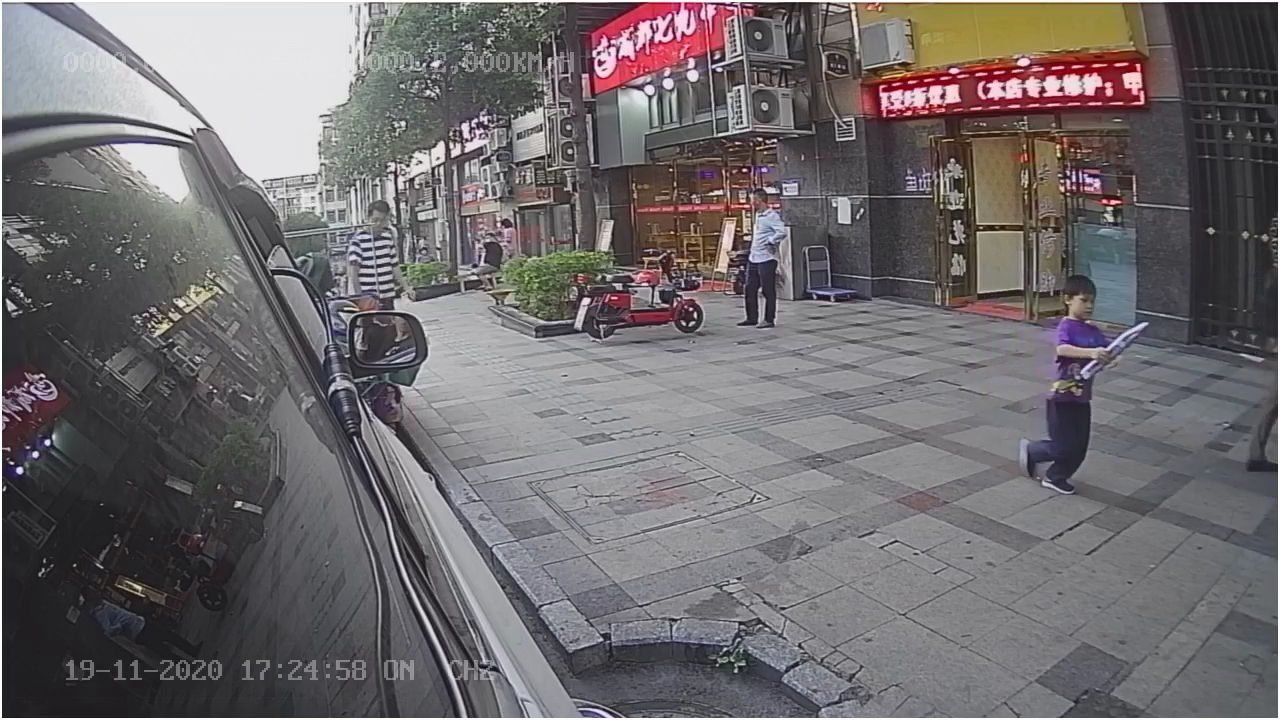person: (1012, 270, 1123, 502)
